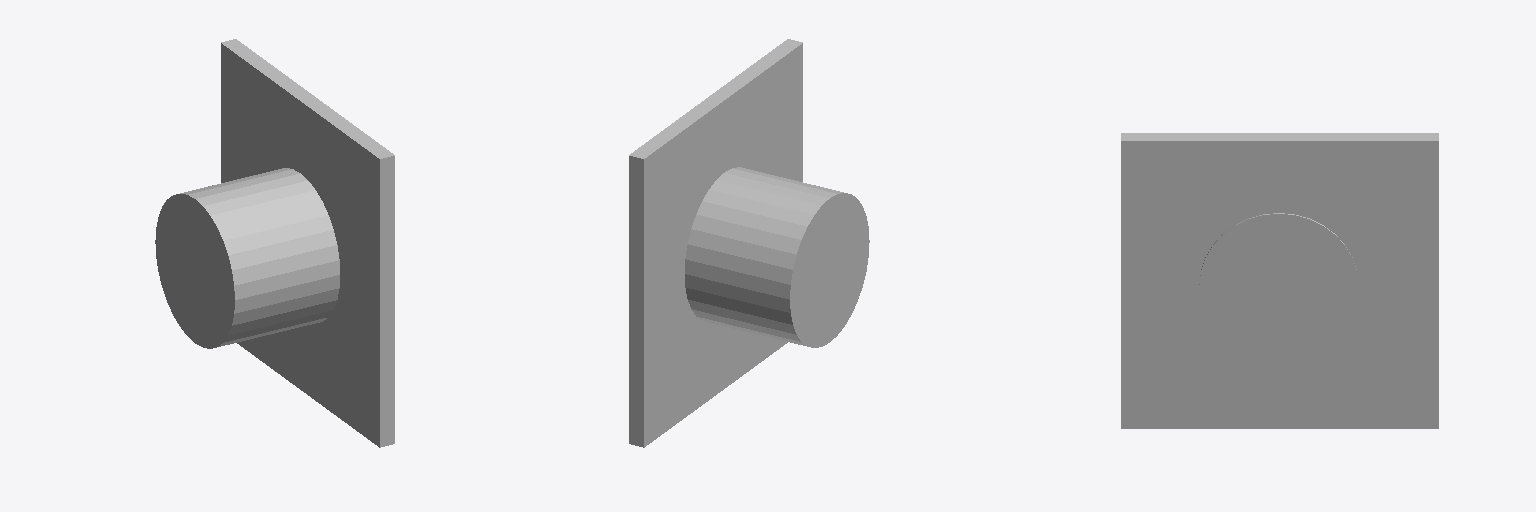
Rendered from socket_three.obj.
3 views of the same model, side by side, from view 1: azimuth 30°, elevation 25°; view 2: azimuth 150°, elevation 25°; view 3: azimuth 270°, elevation 25° (orthographic).
Parts seen in each view (by area): view 1: Cube_Cube.001; view 2: Cube_Cube.001; view 3: Cube_Cube.001.
Boxes of the visible parts, <box> form: Cube_Cube.001: <box>155,39,394,447</box>; Cube_Cube.001: <box>629,39,869,447</box>; Cube_Cube.001: <box>1121,133,1438,428</box>.
Bounding box in the file's own units: 4 × 9 × 9.